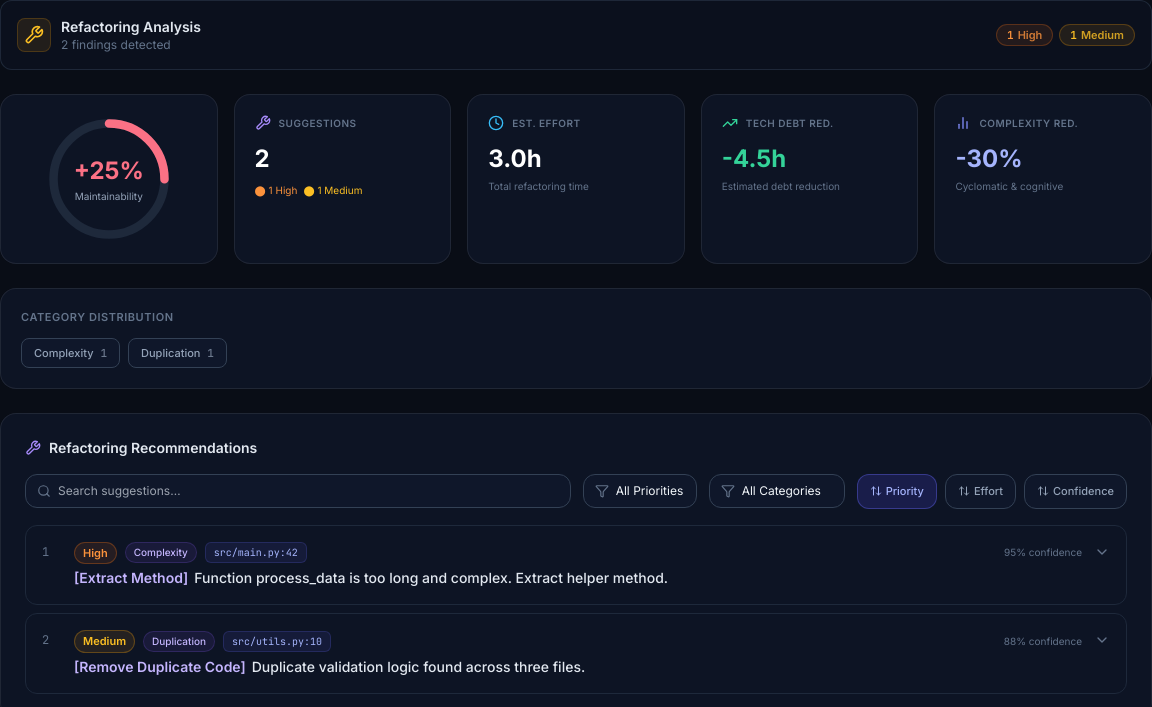
Test: RefactoringTab Component › expands finding details when clicked
The image size is (1152, 707).
Click the text "[Extract Method]": (131,578) [74,569,188,586]
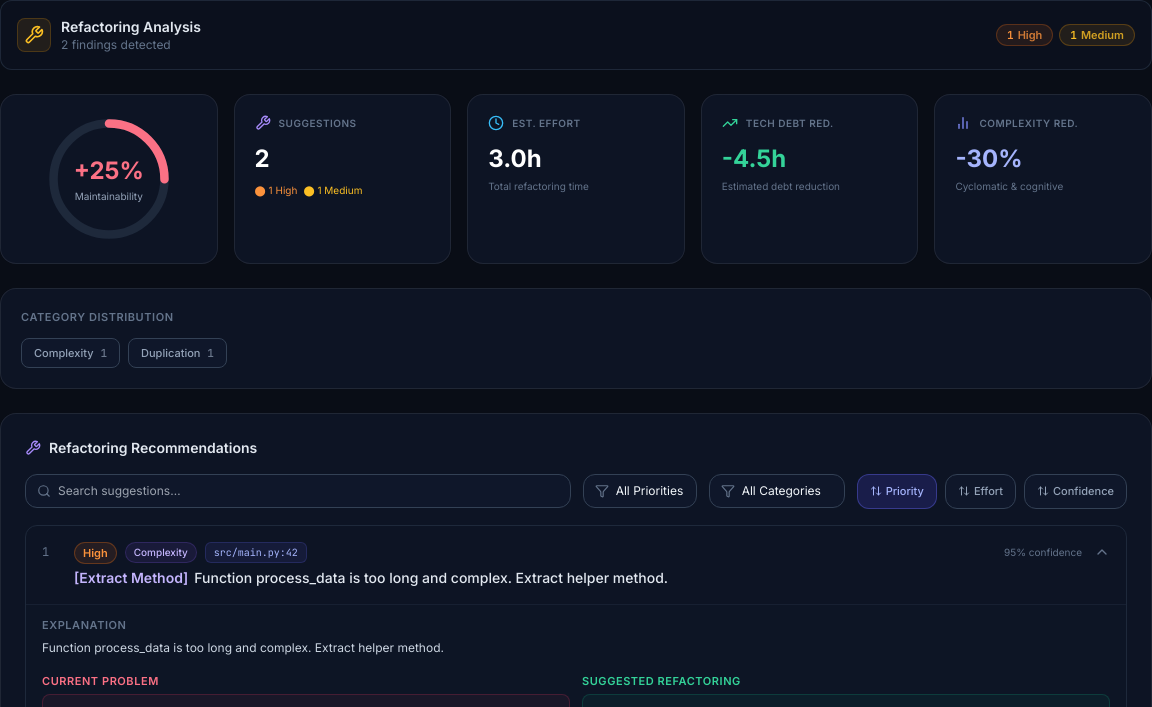
Now the text "Current Problem" is shown, box [42,674,159,688]
Now the text "Suggested Refactoring" is shown, box [582,674,741,688]
